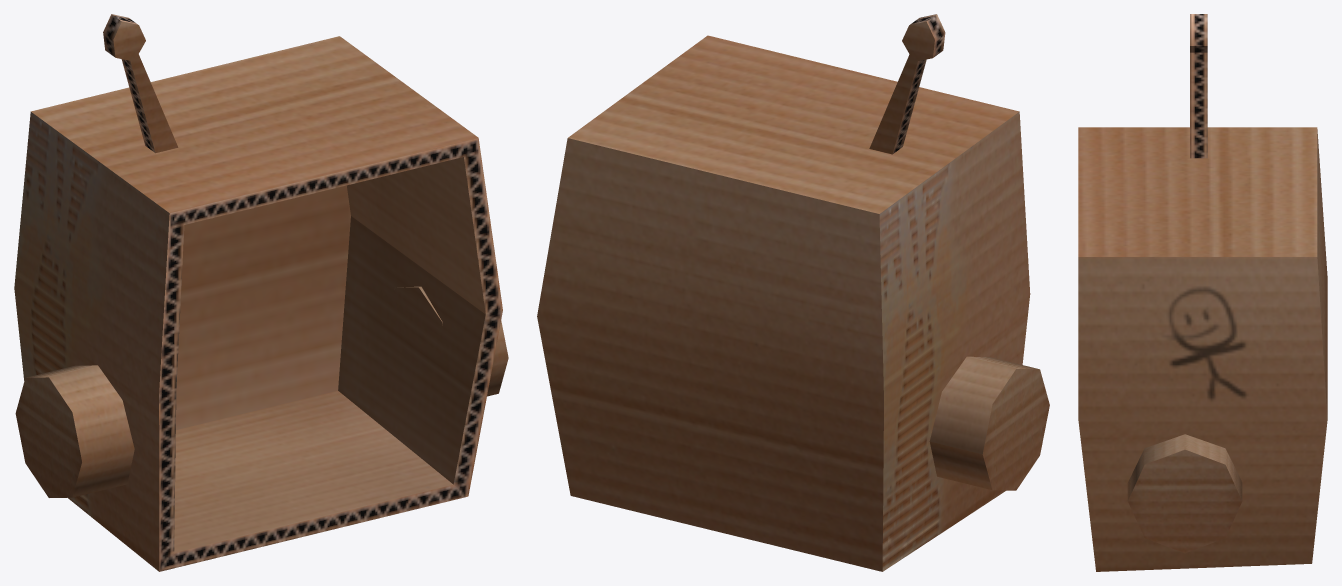
Rendered from Space_hat.FBX.
3 renders of one model, left to right at view 1: azimuth 30°, elevation 25°; view 2: azimuth 150°, elevation 25°; view 3: azimuth 270°, elevation 25°, orthographic. The views are drawn at different scales.
Visible parts, largest first — view 1: Space_hat; view 2: Space_hat; view 3: Space_hat.
Boxes of the visible parts, box(x1,y1,x2,y2) form: Space_hat: box(14, 14, 508, 571); Space_hat: box(537, 14, 1049, 571); Space_hat: box(1078, 14, 1327, 571).
Bounding box in the file's own units: 1.01 × 1.15 × 0.5957.
